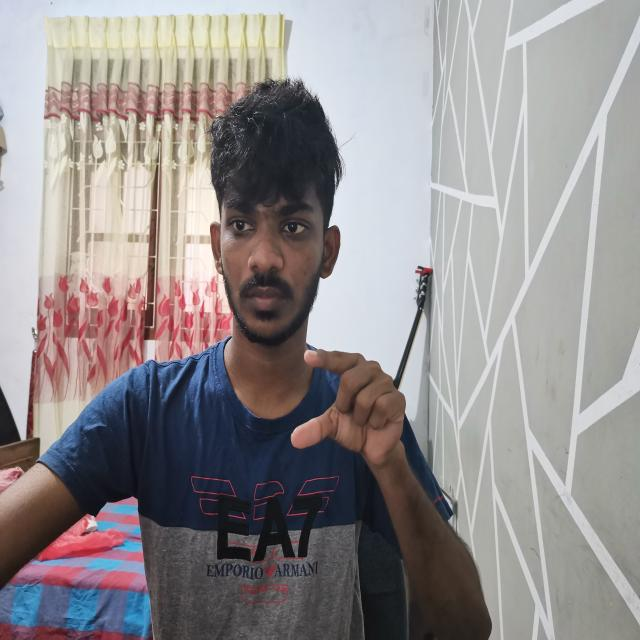No: (286, 332, 412, 466)
